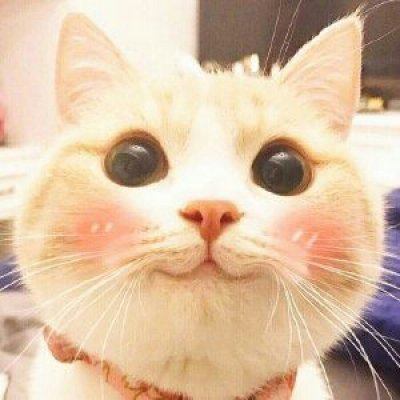cat: (36, 10, 388, 378)
